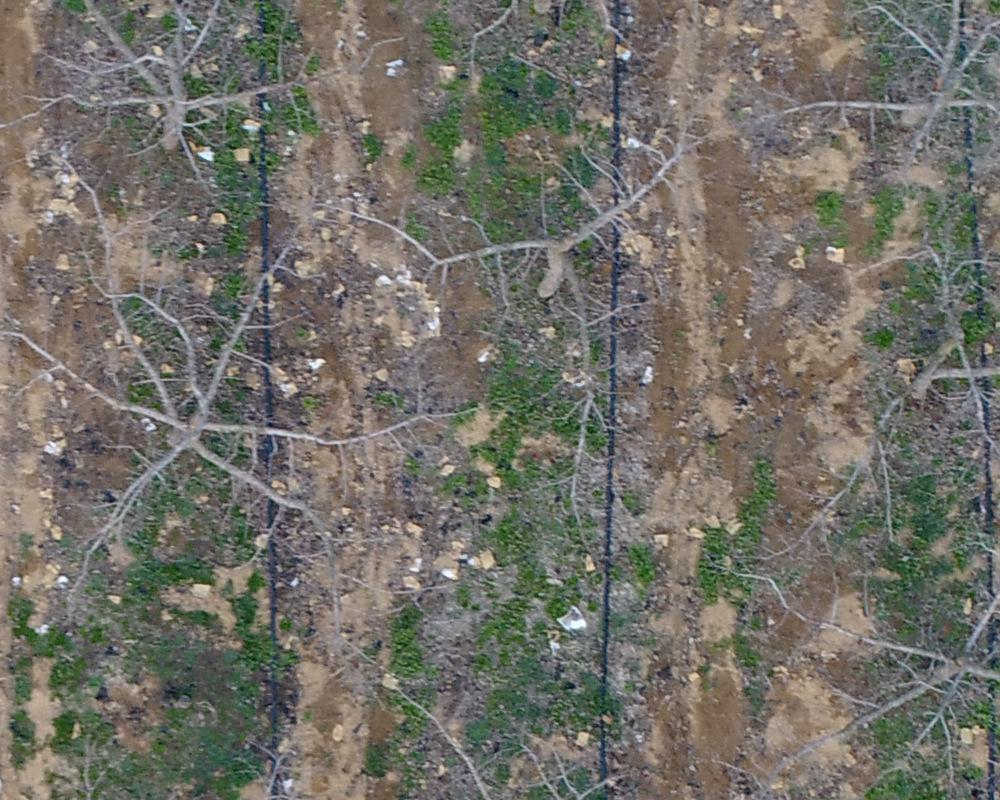apple: (10, 160, 463, 601), (327, 101, 704, 572), (710, 502, 990, 789), (759, 240, 990, 533), (379, 677, 742, 790)
